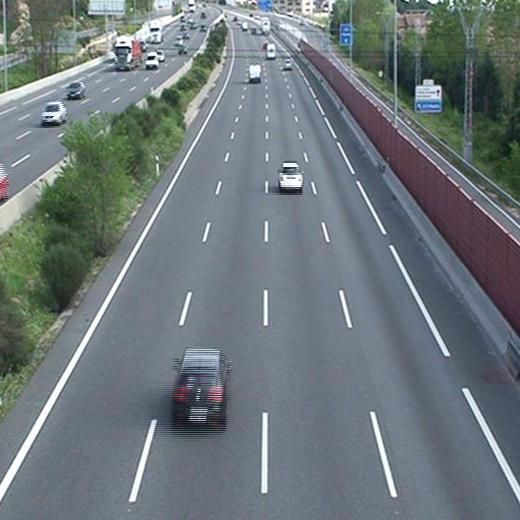car: (172, 349, 232, 427), (276, 161, 304, 192), (283, 60, 293, 71)
van: (247, 63, 261, 83), (266, 42, 277, 59)
